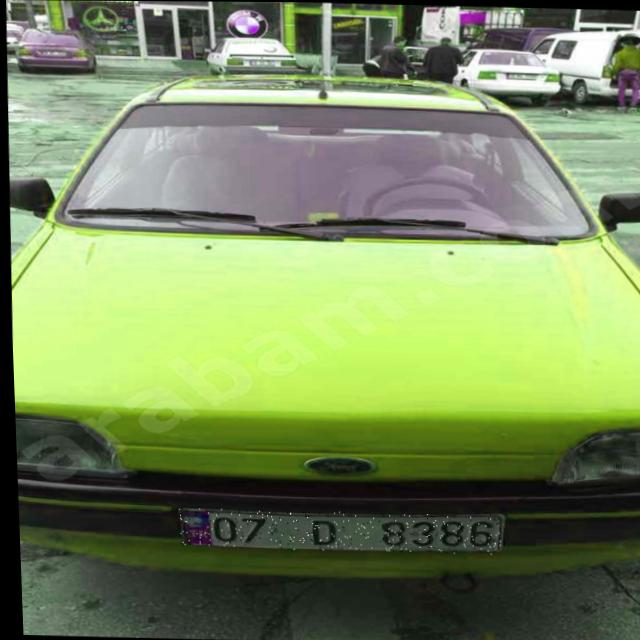license_plate: (174, 507, 498, 554)
